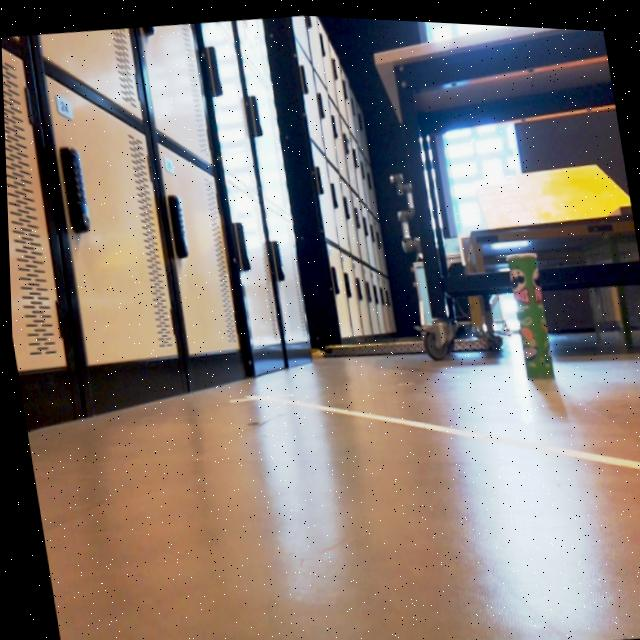greenpringles: (492, 229, 574, 388)
